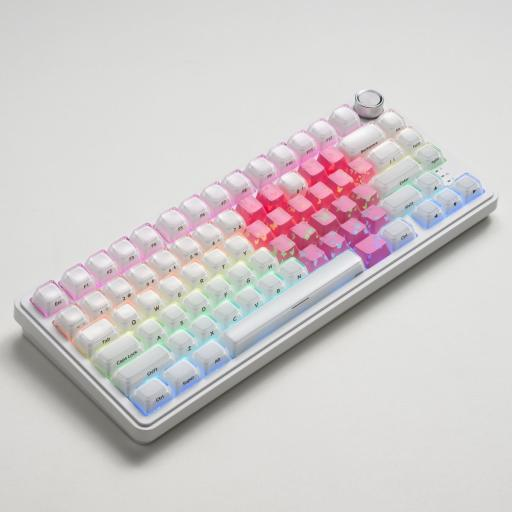KEYBOARD-2: (16, 89, 496, 433)
